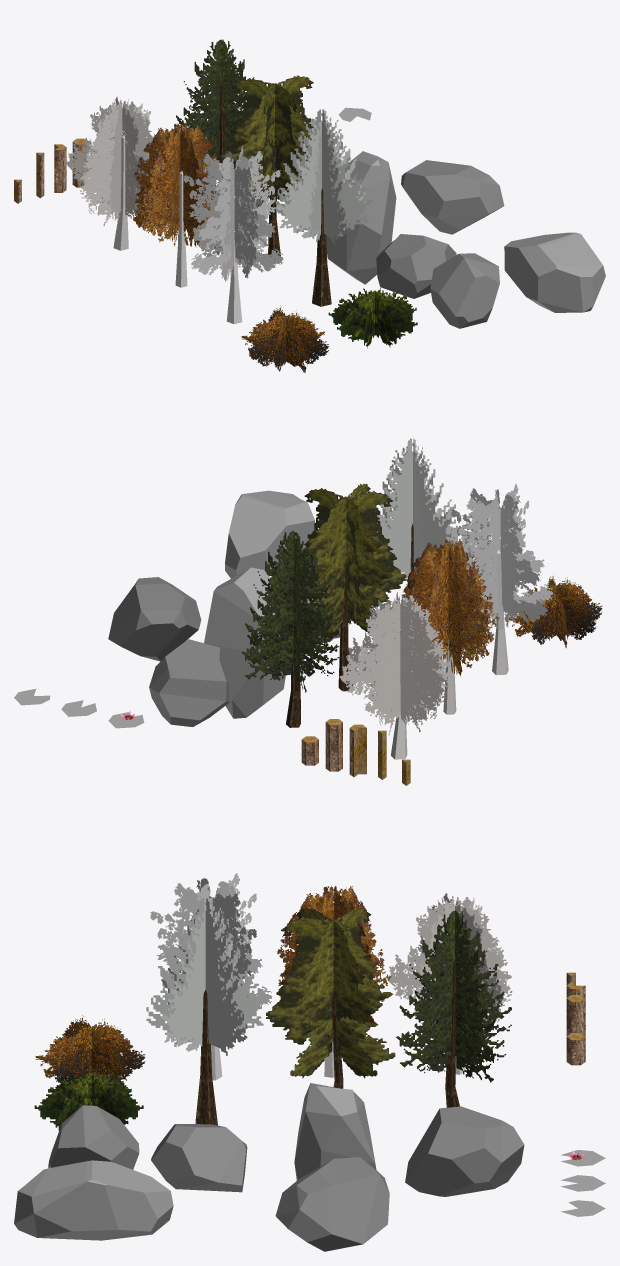
File: Ps1ForestSet.fbx
3 renders of one model, top to bottom at view 1: azimuth 30°, elevation 25°; view 2: azimuth 150°, elevation 25°; view 3: azimuth 270°, elevation 25°, orthographic. The views are drawn at different scales.
Visible parts, largest first — view 1: Rock3, Rock4, Rock1, Rock2, Rock6, Ps1Tree4Texture.003, Ps1Tree4Texture.001, Ps1Tree1Texture.003, Ps1Tree1Texture.001, Ps1Tree6Texture.001, Ps1Tree5Texture.001, Ps1Tree3Texture.003 (+28 smaller); view 2: Rock1, Ps1Tree3Texture.002, Rock4, Rock5, Rock3, Ps1Tree6Texture.001, Ps1Tree3Texture.001, Ps1Tree2Texture.002, Ps1Tree6Texture.002, Ps1Tree4Texture.002, Ps1Tree2Texture.001, Ps1Tree4Texture.001 (+25 smaller); view 3: Rock3, Rock5, Rock4, Ps1Tree2Texture, Rock6, Rock1, Ps1Tree3Texture, Ps1Tree2Texture.003, Rock2, Ps1Tree3Texture.002, Ps1Tree2Texture.002, Ps1Tree1Texture (+23 smaller).
Boxes of the visible parts, <box> form: Rock3: <box>504,232,605,312</box>; Rock4: <box>401,160,504,234</box>; Rock1: <box>326,151,396,284</box>; Rock2: <box>430,253,499,328</box>; Rock6: <box>376,234,456,298</box>; Ps1Tree4Texture.003: <box>183,154,283,273</box>; Ps1Tree4Texture.001: <box>191,151,280,275</box>; Ps1Tree1Texture.003: <box>273,109,373,236</box>; Ps1Tree1Texture.001: <box>276,109,365,238</box>; Ps1Tree6Texture.001: <box>80,101,157,226</box>; Ps1Tree5Texture.001: <box>138,124,219,242</box>; Ps1Tree3Texture.003: <box>176,39,246,154</box>; Rock1: <box>204,567,285,718</box>; Ps1Tree3Texture.002: <box>241,531,344,680</box>; Rock4: <box>108,577,201,661</box>; Rock5: <box>149,639,229,726</box>; Rock3: <box>225,490,315,578</box>; Ps1Tree6Texture.001: <box>346,597,445,732</box>; Ps1Tree3Texture.001: <box>247,531,338,676</box>; Ps1Tree2Texture.002: <box>301,490,406,631</box>; Ps1Tree6Texture.002: <box>339,595,450,725</box>; Ps1Tree4Texture.002: <box>445,492,552,617</box>; Ps1Tree2Texture.001: <box>300,488,393,635</box>; Ps1Tree4Texture.001: <box>451,488,547,622</box>; Rock3: <box>14,1160,173,1240</box>; Rock5: <box>405,1106,524,1196</box>; Rock4: <box>275,1157,389,1251</box>; Ps1Tree2Texture: <box>266,917,395,1065</box>; Rock6: <box>151,1124,247,1192</box>; Rock1: <box>294,1083,376,1180</box>; Ps1Tree3Texture: <box>396,911,511,1072</box>; Ps1Tree2Texture.003: <box>290,907,381,1078</box>; Rock2: <box>48,1105,139,1169</box>; Ps1Tree3Texture.002: <box>414,911,496,1082</box>; Ps1Tree2Texture.002: <box>296,907,377,1078</box>; Ps1Tree1Texture: <box>146,898,267,1046</box>.
Size of the model in its own units: 421 by 253 by 489.
